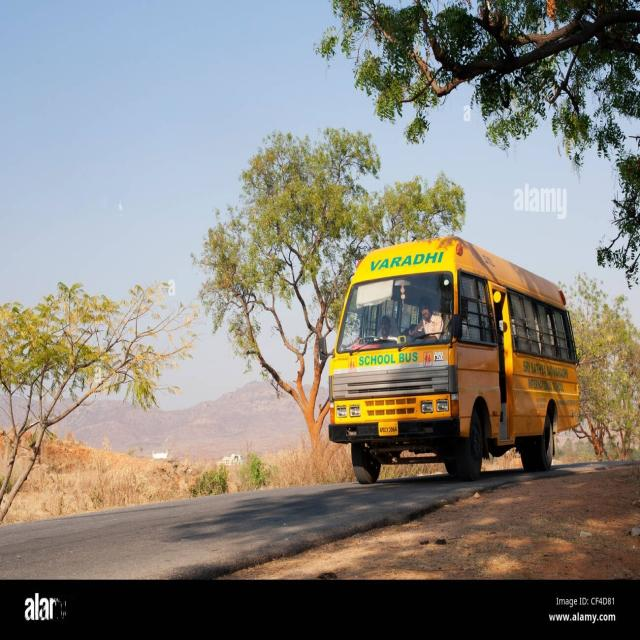bus: (329, 237, 579, 483)
